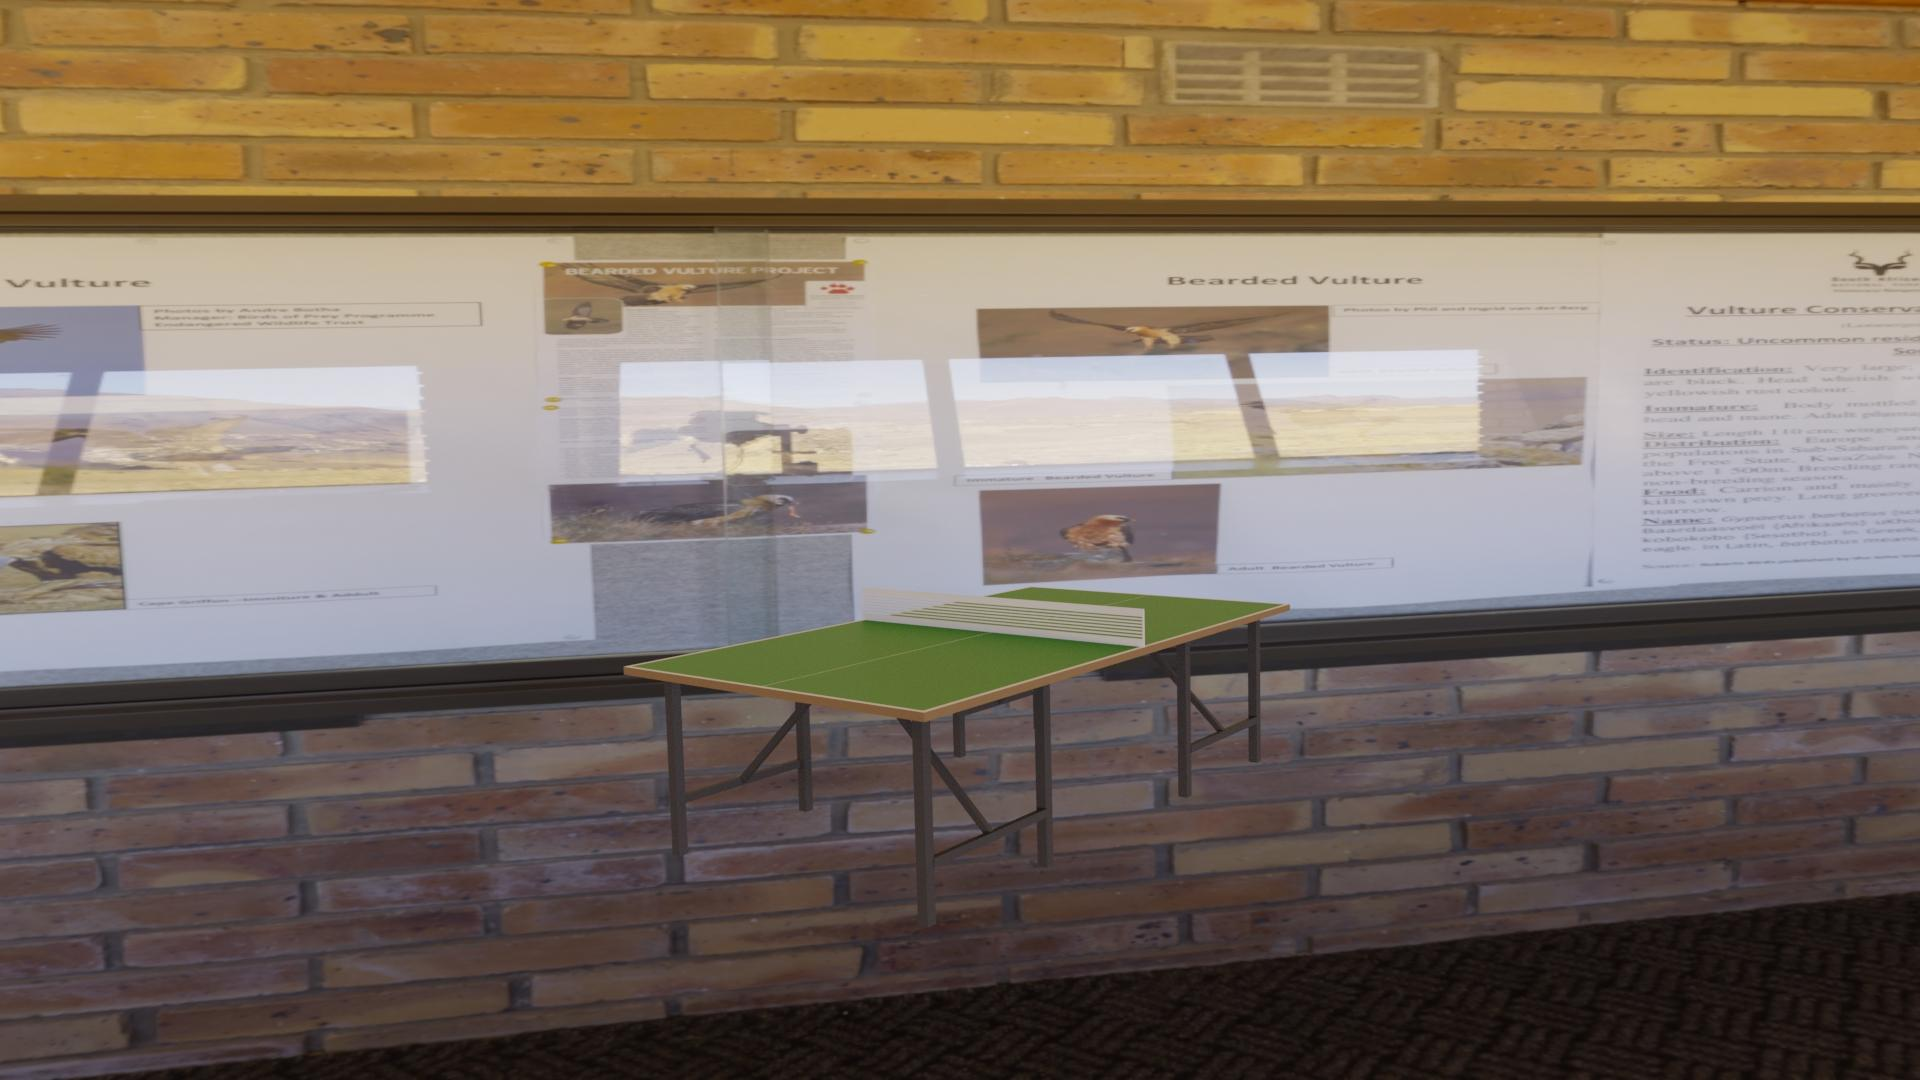table: (631, 587, 1284, 711)
